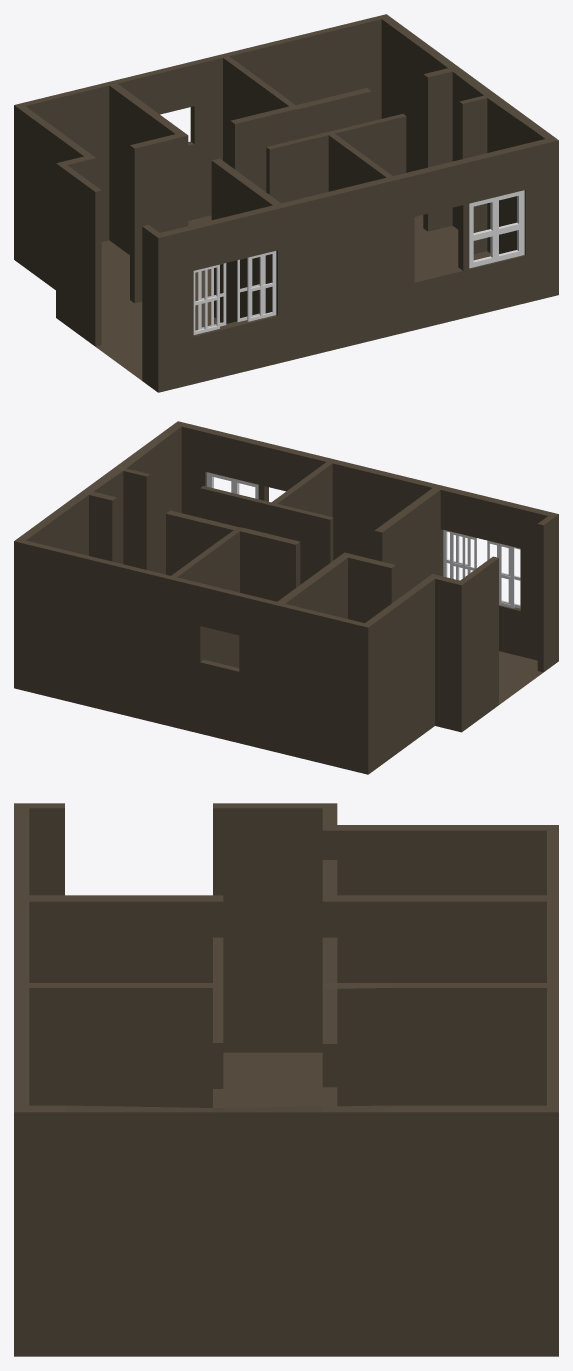
The model's file is casaJ.fbx.
3 renders of one model, top to bottom at view 1: azimuth 30°, elevation 25°; view 2: azimuth 150°, elevation 25°; view 3: azimuth 270°, elevation 25°, orthographic. The views are drawn at different scales.
Parts seen in each view (by area): view 1: Plane, Plane.001, Plane.002; view 2: Plane, Plane.001, Plane.002; view 3: Plane.
Boxes of the visible parts, x1=… form: Plane: x1=14, y1=14, x2=558, y2=392; Plane.001: x1=193, y1=251, x2=276, y2=334; Plane.002: x1=469, y1=190, x2=524, y2=268; Plane: x1=14, y1=421, x2=558, y2=774; Plane.001: x1=443, y1=530, x2=520, y2=608; Plane.002: x1=206, y1=472, x2=258, y2=499; Plane: x1=14, y1=803, x2=558, y2=1356.
Size of the model in its own units: 1037 by 383 by 773.
